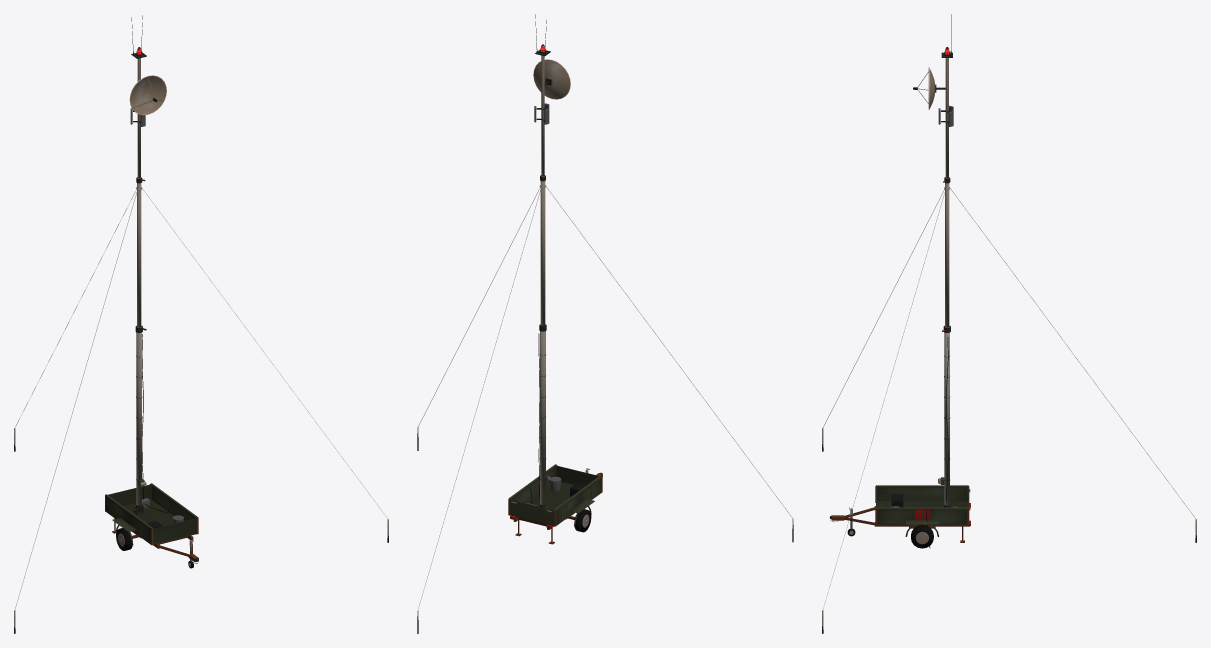
The model's file is pike_jammer_trailer.glb.
3 renders of one model, left to right at view 1: azimuth 30°, elevation 25°; view 2: azimuth 150°, elevation 25°; view 3: azimuth 270°, elevation 25°, orthographic.
Parts seen in each view (by area): view 1: trailer_body_LOD0, mast_LOD0, dish_LOD0, guy_wires_LOD0, mast_stage_2_LOD0, mast_stage_3_LOD0; view 2: trailer_body_LOD0, mast_LOD0, guy_wires_LOD0, dish_LOD0, mast_stage_2_LOD0, mast_stage_3_LOD0; view 3: trailer_body_LOD0, mast_LOD0, guy_wires_LOD0, mast_stage_2_LOD0, mast_stage_3_LOD0.
Part boxes in pixels (x1,y1,x2,y2): trailer_body_LOD0: [105, 483, 198, 548]; mast_LOD0: [133, 325, 146, 514]; dish_LOD0: [129, 75, 166, 115]; guy_wires_LOD0: [14, 190, 388, 633]; mast_stage_2_LOD0: [136, 177, 145, 327]; mast_stage_3_LOD0: [130, 15, 146, 178]; trailer_body_LOD0: [508, 464, 602, 544]; mast_LOD0: [538, 324, 550, 508]; guy_wires_LOD0: [417, 187, 793, 633]; dish_LOD0: [533, 59, 570, 99]; mast_stage_2_LOD0: [539, 175, 546, 325]; mast_stage_3_LOD0: [534, 14, 550, 176]; trailer_body_LOD0: [874, 485, 970, 547]; mast_LOD0: [938, 325, 950, 507]; guy_wires_LOD0: [822, 189, 1196, 633]; mast_stage_2_LOD0: [943, 177, 950, 327]; mast_stage_3_LOD0: [938, 14, 953, 178].
Size of what is drawn, in the model's own units: 11.29 by 15.15 by 9.79.
